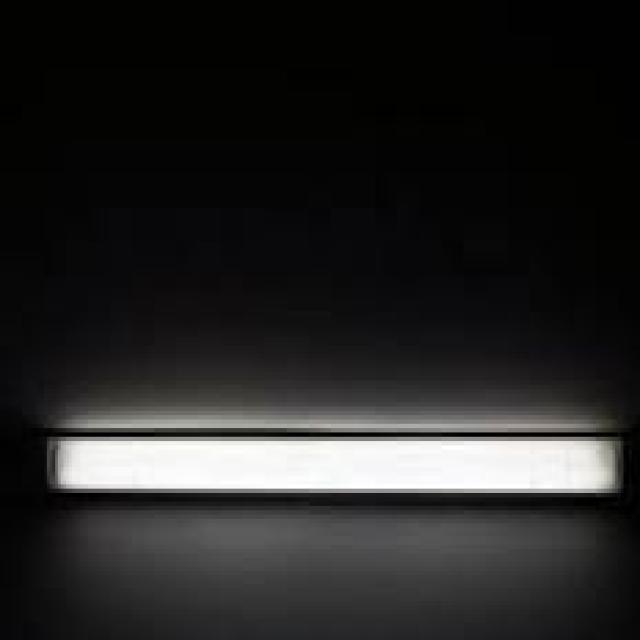tubelight_on: (34, 428, 626, 504)
